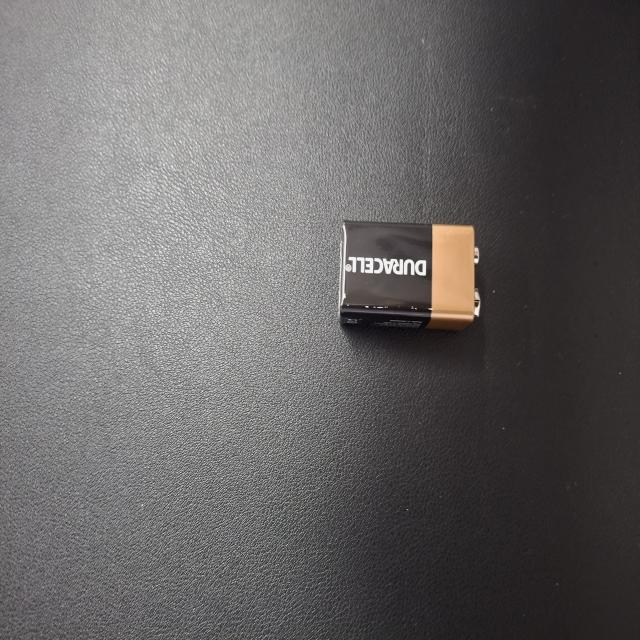9V: (232, 452, 314, 640)
